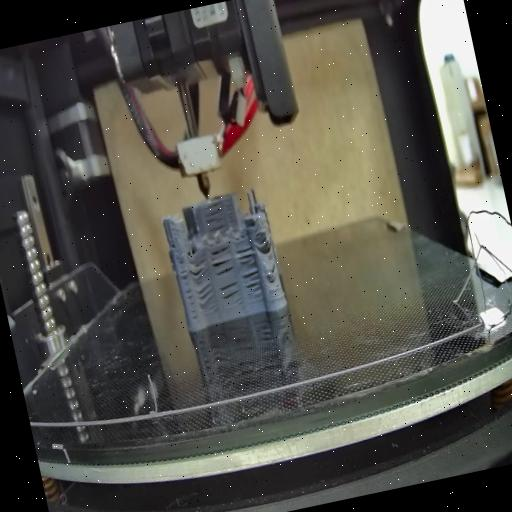cracks: (178, 268, 199, 324), (200, 198, 230, 234), (215, 277, 244, 308), (208, 244, 236, 276), (240, 268, 265, 303), (232, 241, 256, 266), (195, 284, 218, 310), (252, 231, 274, 256), (186, 259, 208, 281), (262, 260, 279, 284), (168, 236, 178, 250)
